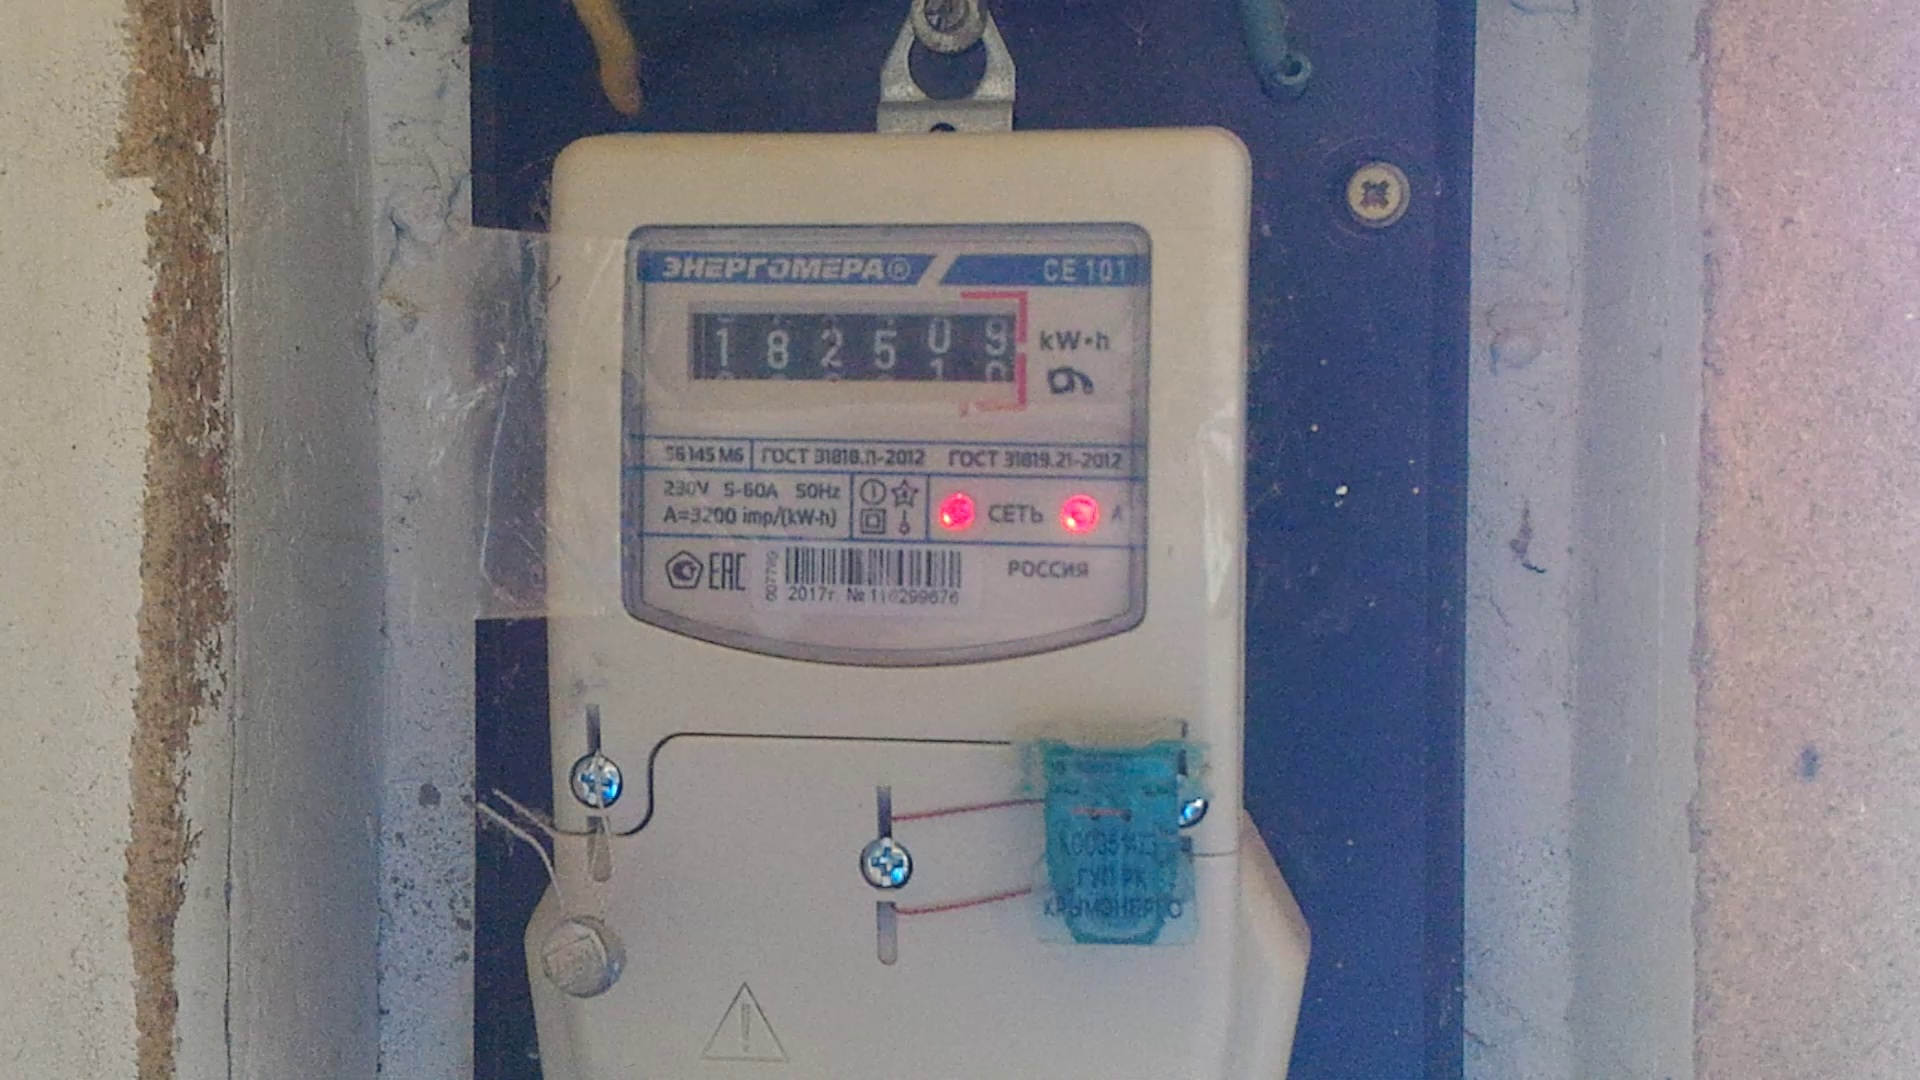counter: (553, 131, 1261, 1076)
counter_screen: (688, 309, 1019, 385)
